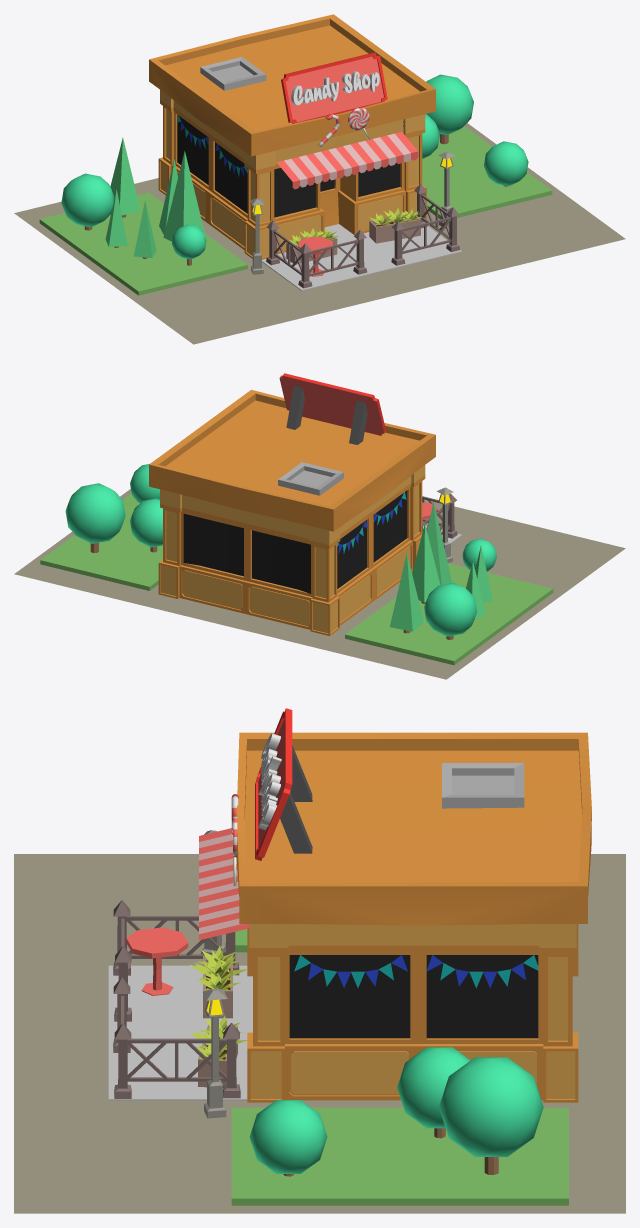
Rendered from finalBotPark.gltf.
The picture shows the model from 3 angles, top to bottom: view 1: azimuth 30°, elevation 25°; view 2: azimuth 150°, elevation 25°; view 3: azimuth 270°, elevation 25°; orthographic projection. The views are drawn at different scales.
Parts seen in each view (by area): view 1: Cube, Plane, Cube.003, Icosphere, Cube.004, Plane.001, Plane.002, Pine Tree, Pine Tree.001, Cube.002, Text.001, Pine Tree.002 (+9 smaller); view 2: Cube, Plane, Cube.003, Icosphere, Plane.001, Pine Tree.002, Cube.002, Pine Tree.003, Cube.001, Pine Tree.001, Pine Tree, Cube.013; view 3: Cube, Plane, Cube.003, Icosphere, Cube.004, Plane.002, Cube.002, Cube.007, Plane.001, Plane.003, Cube.014, Cube.013 (+6 smaller).
Part boxes in pixels (x1,y1,x2,y2): Cube: [149, 14, 435, 259]; Plane: [14, 123, 625, 344]; Cube.003: [39, 126, 552, 295]; Icosphere: [61, 74, 528, 265]; Cube.004: [262, 224, 462, 290]; Plane.001: [281, 52, 387, 123]; Plane.002: [277, 132, 418, 189]; Pine Tree: [163, 151, 205, 241]; Pine Tree.001: [105, 189, 156, 258]; Cube.002: [200, 57, 266, 90]; Text.001: [291, 71, 379, 105]; Pine Tree.002: [110, 137, 140, 217]; Cube: [149, 389, 435, 635]; Plane: [14, 489, 625, 679]; Cube.003: [40, 493, 553, 665]; Icosphere: [65, 464, 496, 639]; Plane.001: [279, 373, 385, 435]; Pine Tree.002: [390, 553, 423, 633]; Cube.002: [278, 462, 343, 495]; Pine Tree.003: [412, 524, 440, 603]; Cube.001: [286, 385, 367, 444]; Pine Tree.001: [466, 545, 492, 619]; Pine Tree: [427, 502, 452, 585]; Cube.013: [436, 487, 453, 562]; Cube: [236, 732, 591, 1102]; Plane: [14, 854, 625, 1213]; Cube.003: [231, 929, 568, 1205]; Icosphere: [249, 1047, 543, 1176]; Cube.004: [108, 965, 310, 1100]; Plane.002: [199, 828, 249, 940]; Cube.002: [442, 763, 524, 808]; Cube.007: [127, 1022, 240, 1098]; Plane.001: [255, 708, 292, 860]; Plane.003: [294, 955, 538, 988]; Cube.014: [126, 927, 188, 995]; Cube.013: [201, 830, 227, 1118].
Bounding box in the file's own units: 2 × 0.765 × 1.44.
